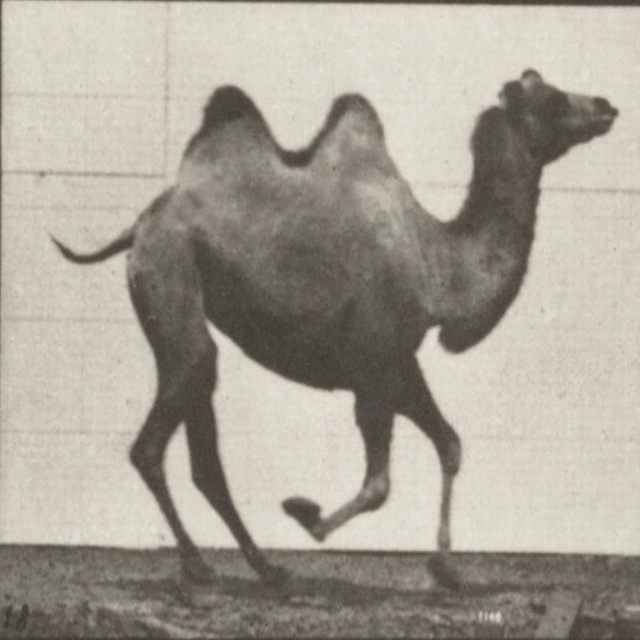Camel: (48, 64, 620, 590)
